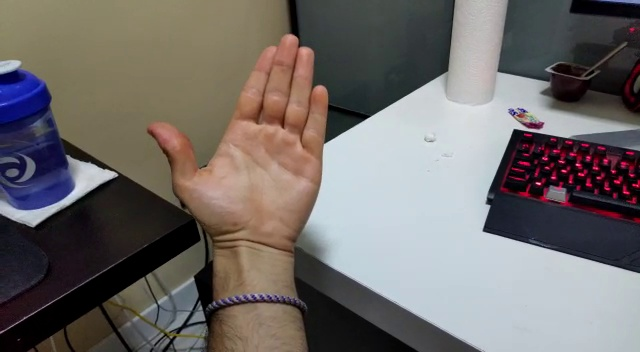Palm: (145, 31, 327, 257)
